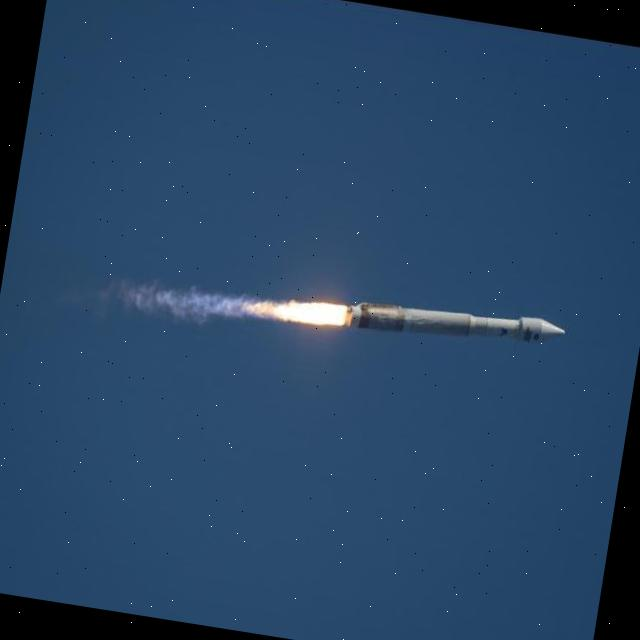missile: (340, 287, 564, 362)
